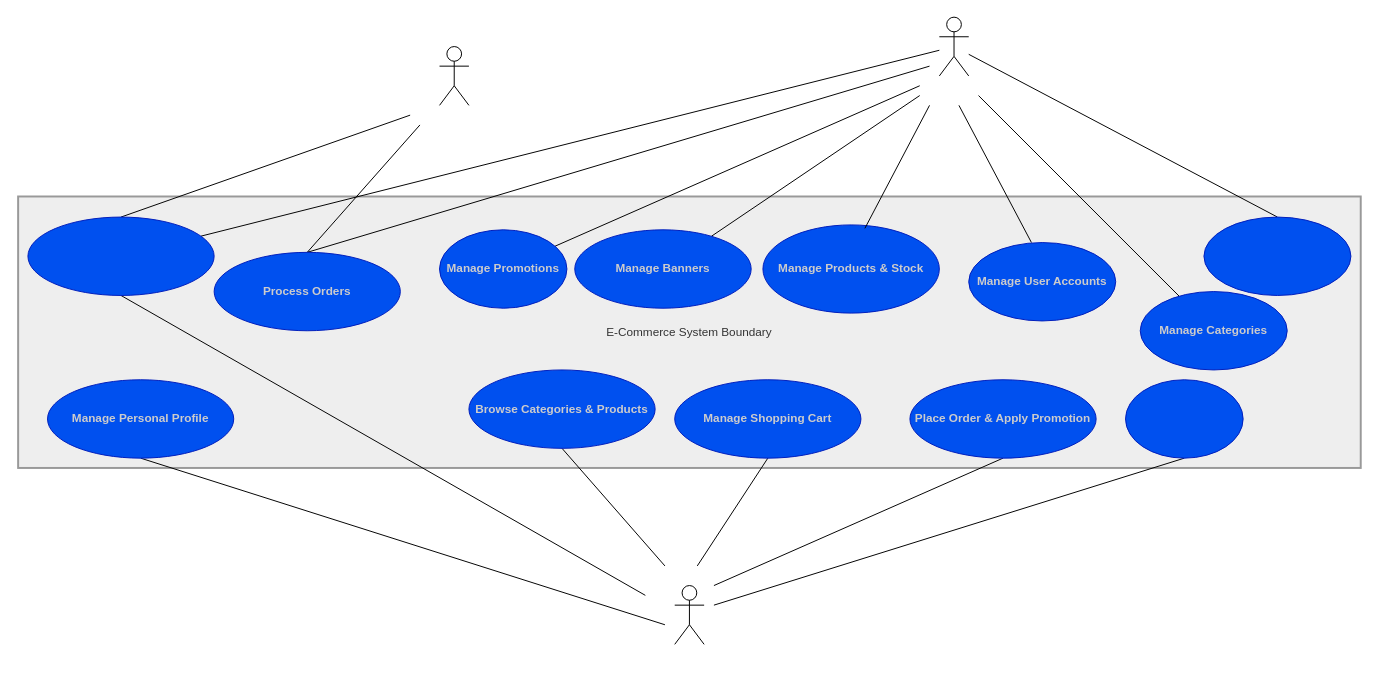
This 1378x682 diagram has some shape labels left out. Here are the shapes that lost their labels. From the top down, the centre of each, then its label:
At point (953, 46): "Admin".
At point (454, 75): "Manager".
At point (120, 255): "Login / Logout".
At point (1277, 255): "Assign Roles & Authorities".
At point (1184, 418): "Track Order Status".
At point (689, 614): "Customer".
